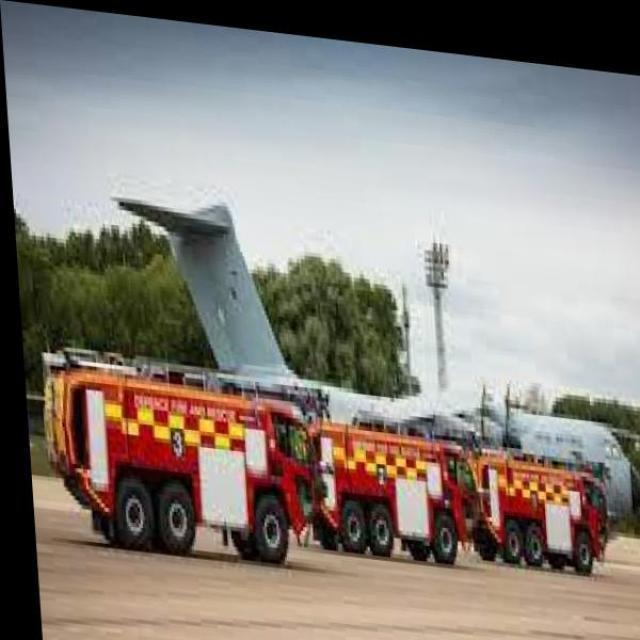emergency: (44, 334, 316, 570), (309, 414, 473, 568), (472, 448, 612, 576)
